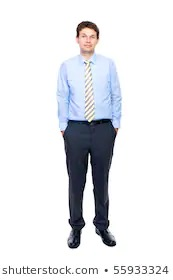F_belt: (67, 117, 113, 126)
F_dress pants: (60, 119, 111, 229)
F_shirt: (53, 52, 123, 135)
F_tie: (81, 58, 97, 122)
